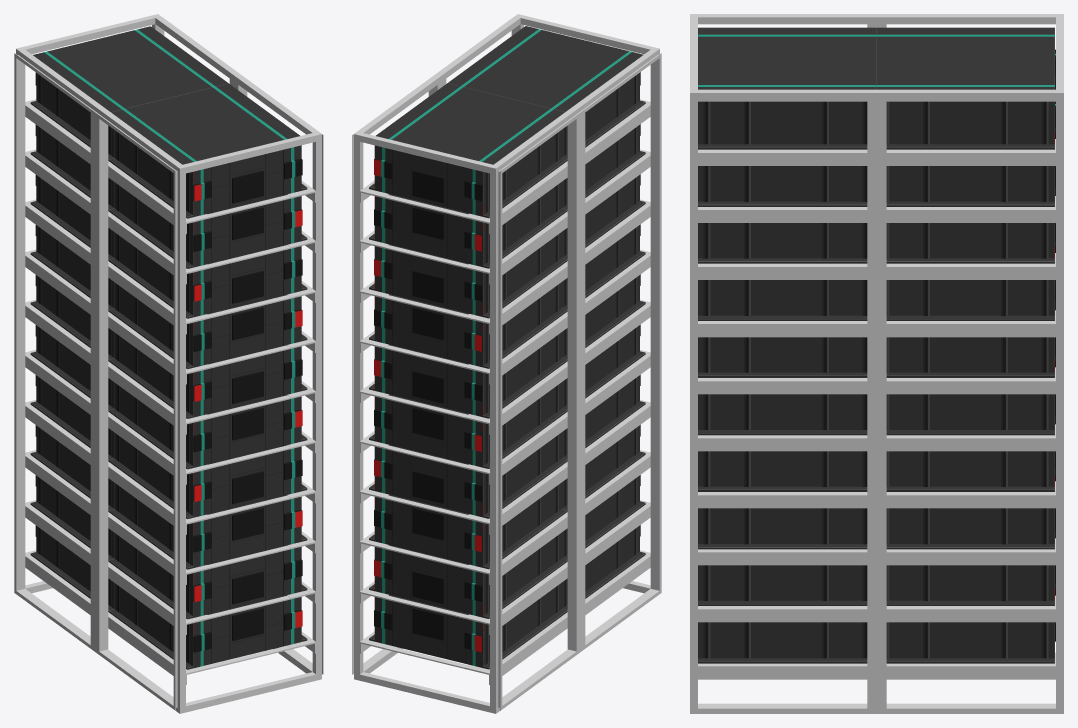
3 views of the same model, side by side, from view 1: azimuth 30°, elevation 25°; view 2: azimuth 150°, elevation 25°; view 3: azimuth 270°, elevation 25° (orthographic). The views are drawn at different scales.
Parts seen in each view (by area): view 1: Lo-BDOY_01, Lo-PRINGT_01; view 2: Lo-BDOY_01, Lo-PRINGT_01; view 3: Lo-BDOY_01, Lo-PRINGT_01.
Boxes of the visible parts, x1,y1,x2,y2 form: Lo-BDOY_01: (14, 14, 323, 713); Lo-PRINGT_01: (38, 74, 189, 663); Lo-BDOY_01: (352, 14, 661, 713); Lo-PRINGT_01: (485, 75, 637, 664); Lo-BDOY_01: (690, 14, 1063, 713); Lo-PRINGT_01: (703, 101, 1048, 658).
Size of the model in its own units: 0.6252 by 2.2 by 1.2.
Materials: 2 (2 with a texture image).
